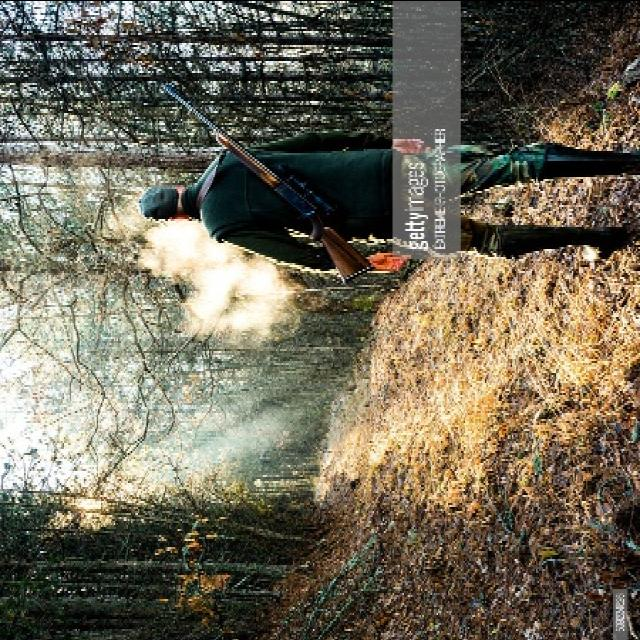rifle: (160, 79, 374, 285)
